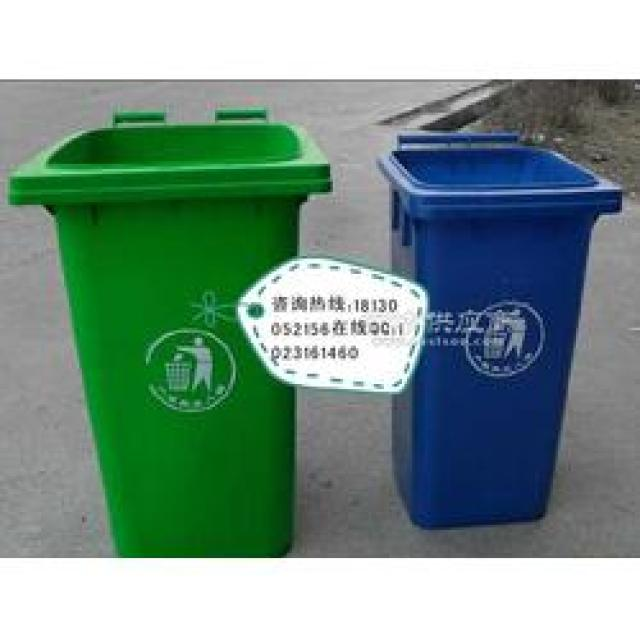garbage_bin: (5, 102, 333, 556), (373, 130, 620, 528)
